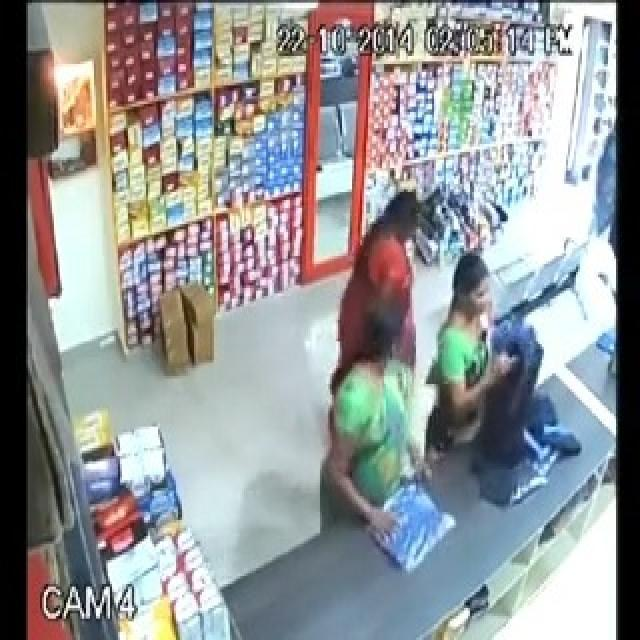normal: (434, 236, 588, 520), (322, 286, 461, 588), (344, 175, 438, 388)
